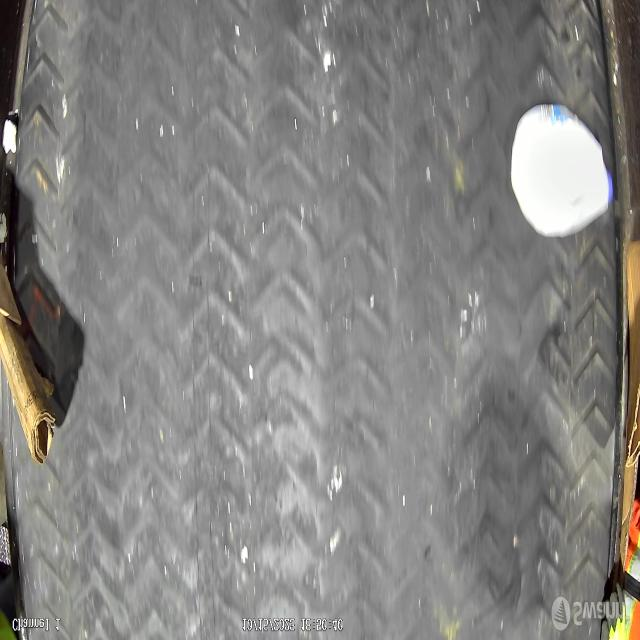milk_jug: (512, 104, 614, 237)
